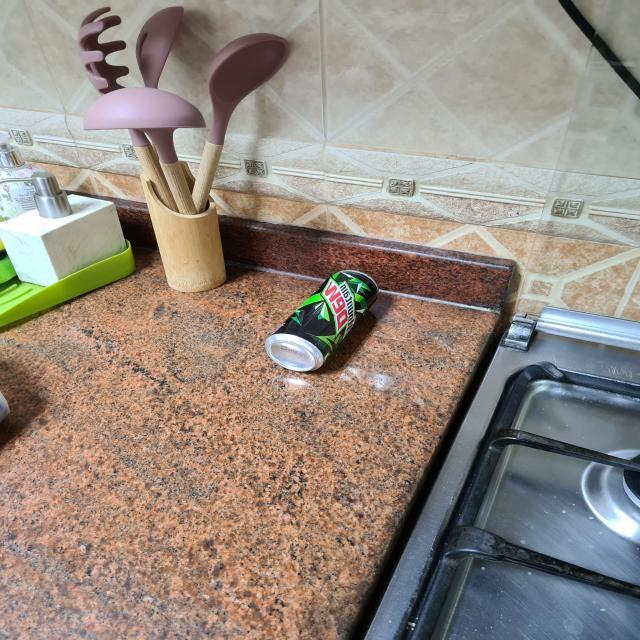can: (269, 267, 379, 375)
